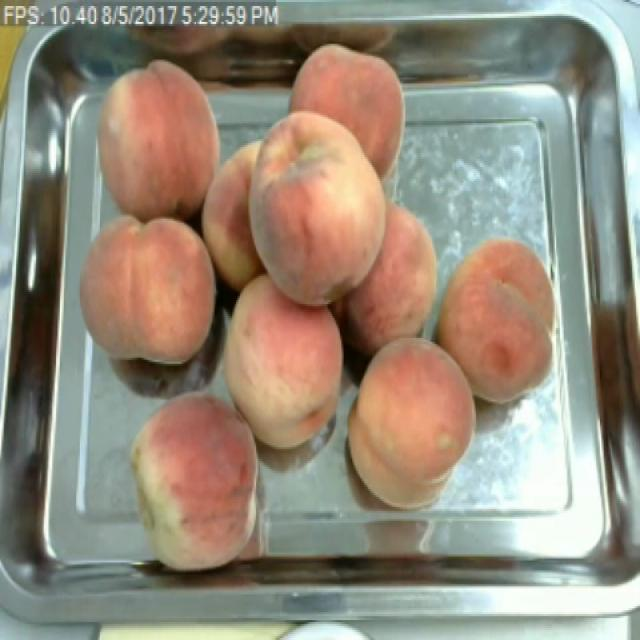Fruit: (243, 101, 393, 312), (122, 388, 270, 576), (337, 330, 484, 515), (69, 204, 227, 373), (428, 228, 571, 410), (85, 50, 231, 228), (214, 272, 354, 457), (282, 36, 414, 177)
